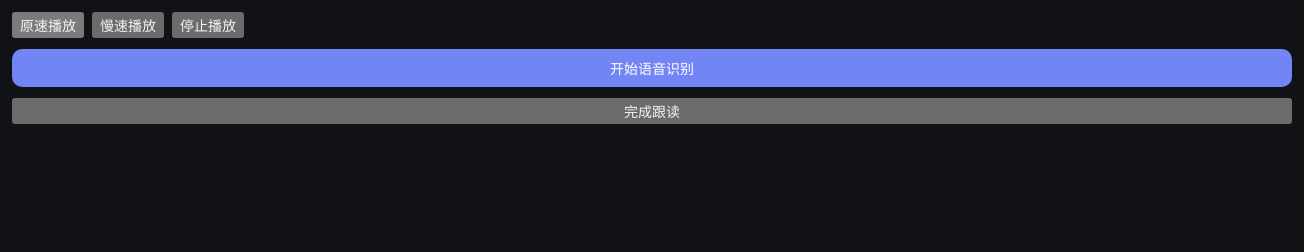
Test: transcript coverage also handles scripts without spaces
Click the button "开始语音识别" at (652, 68), box left=12, top=49, right=1292, bottom=87
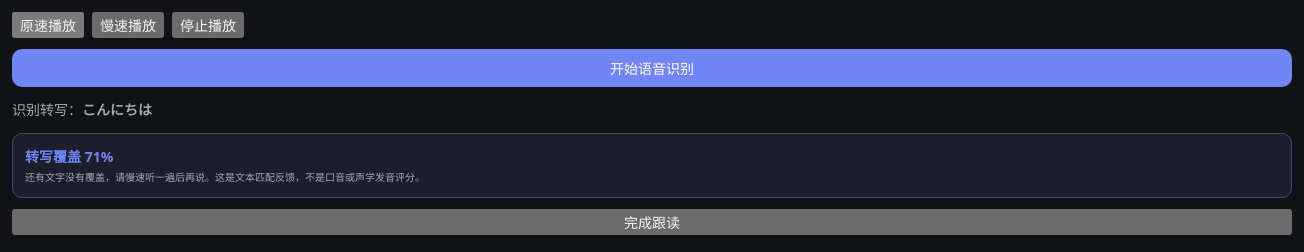
Expected: the text "转写覆盖 71%" is shown, left=25, top=147, right=113, bottom=166
